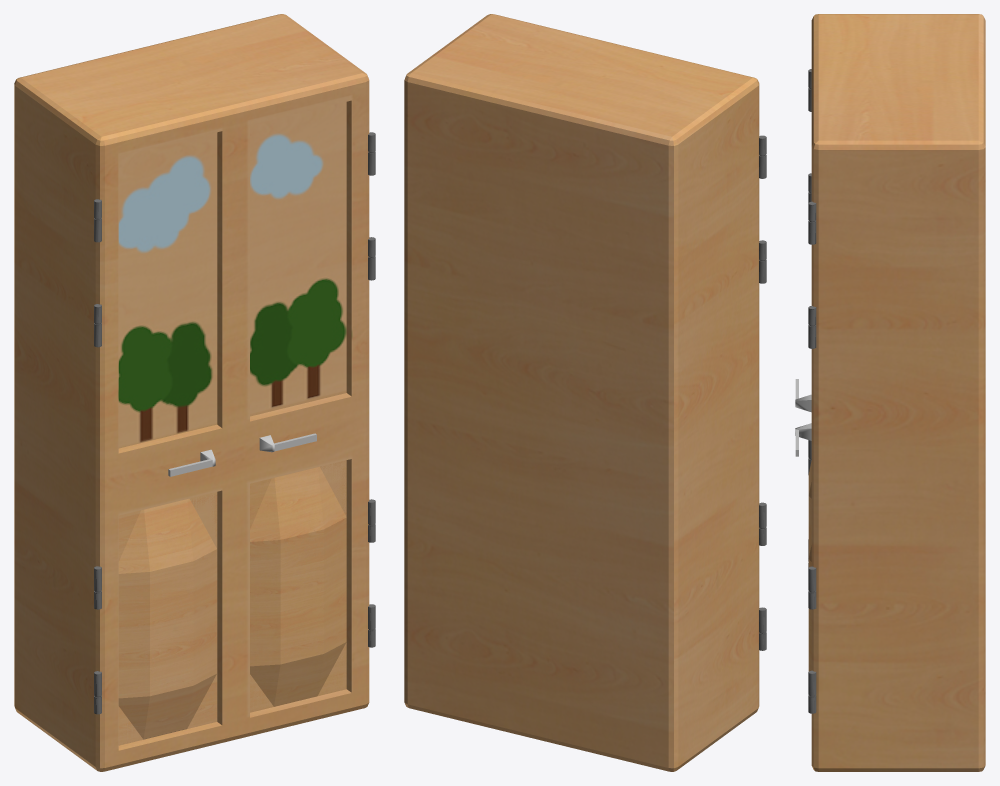
The picture shows the model from 3 angles, left to right: view 1: azimuth 30°, elevation 25°; view 2: azimuth 150°, elevation 25°; view 3: azimuth 270°, elevation 25°; orthographic projection.
Visible parts, largest first — view 1: Cube_1, Cube, schanieren_1, Symmetry_1; view 2: Cube_1, schanieren_1; view 3: Cube_1, schanieren_1, Cube, Symmetry_1.
Boxes of the visible parts, x1,y1,x2,y2 form: Cube_1: (14,14,369,771); Cube: (118,460,346,745); schanieren_1: (94,132,375,714); Symmetry_1: (168,433,316,476); Cube_1: (404,14,759,771); schanieren_1: (759,135,766,650); Cube_1: (811,14,985,771); schanieren_1: (808,69,816,713); Cube: (808,461,811,671); Symmetry_1: (795,379,811,456).
Bounding box in the file's own units: 92.5 × 200 × 54.68.
3 materials, 3 textured.
